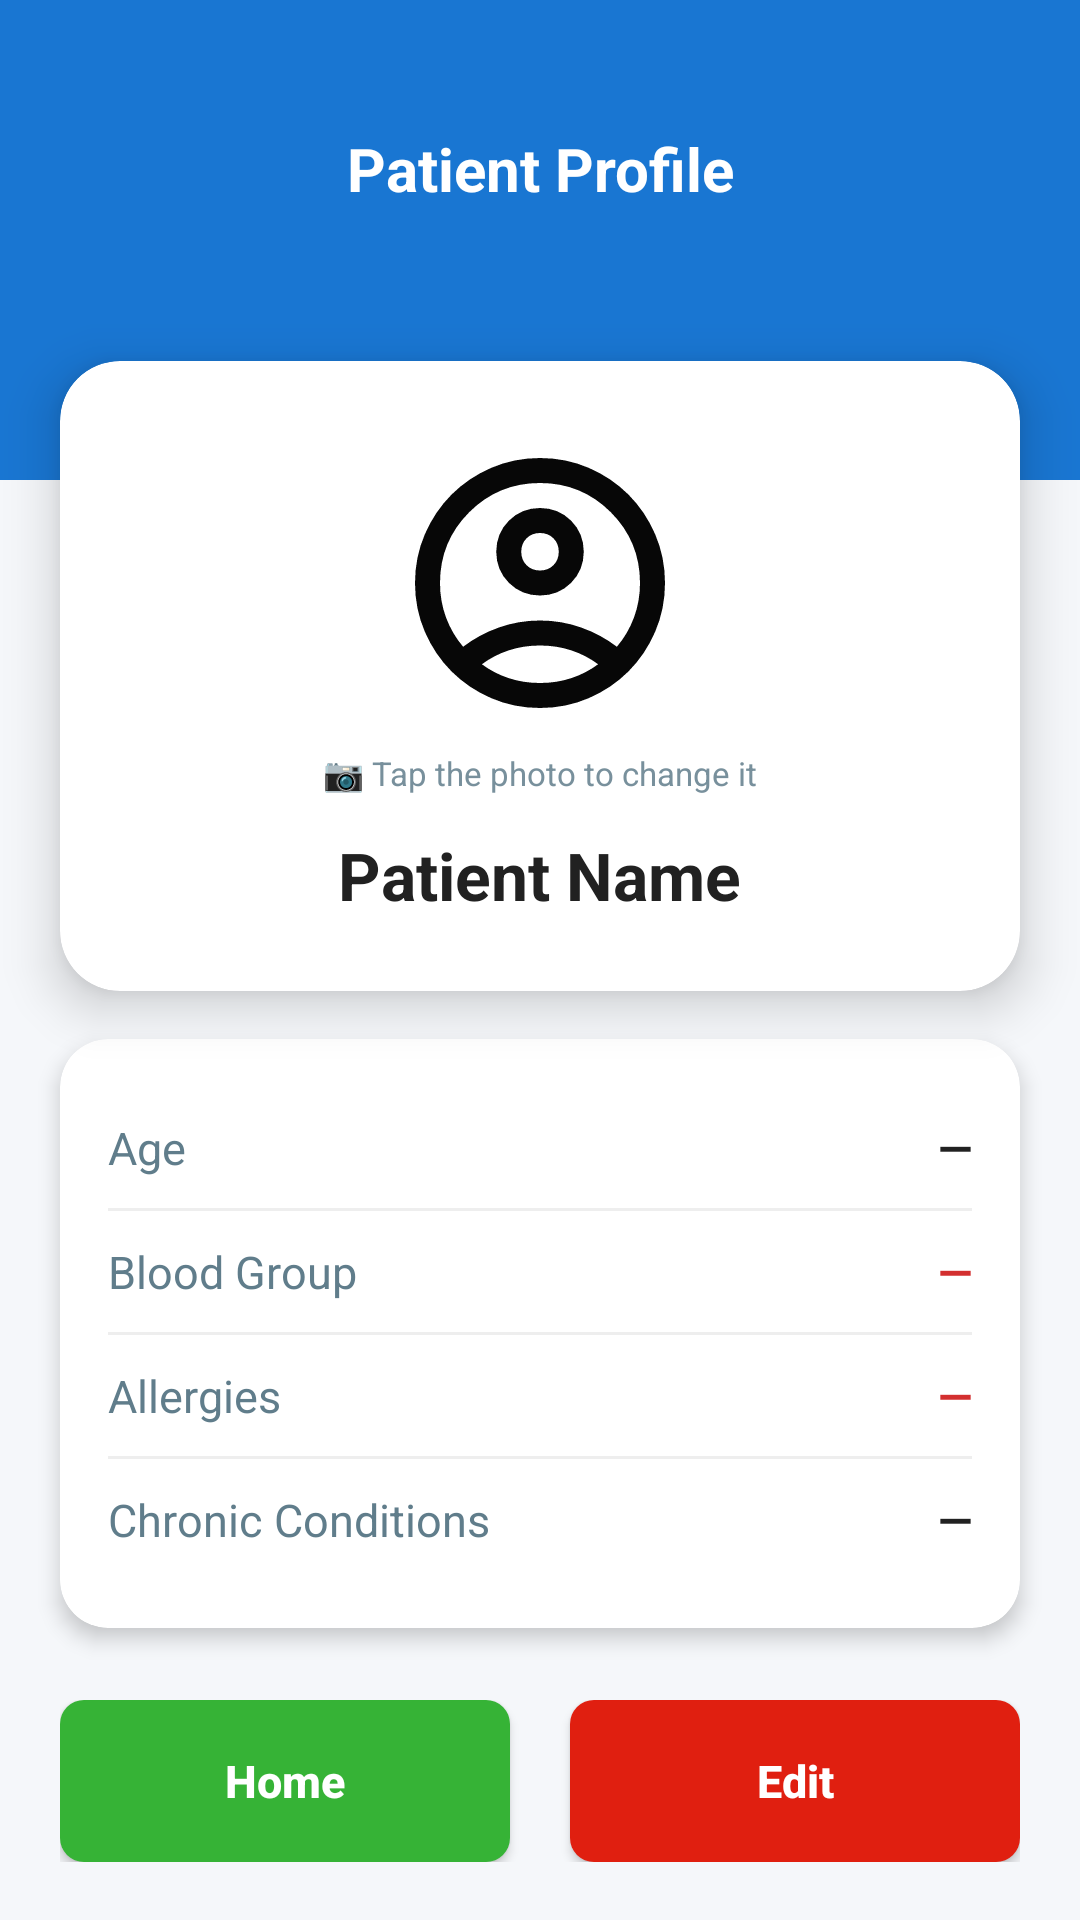

Icons on this 1080 x 1920 Android screen, each with the point to tap as (x,y):
person: (540,583)
